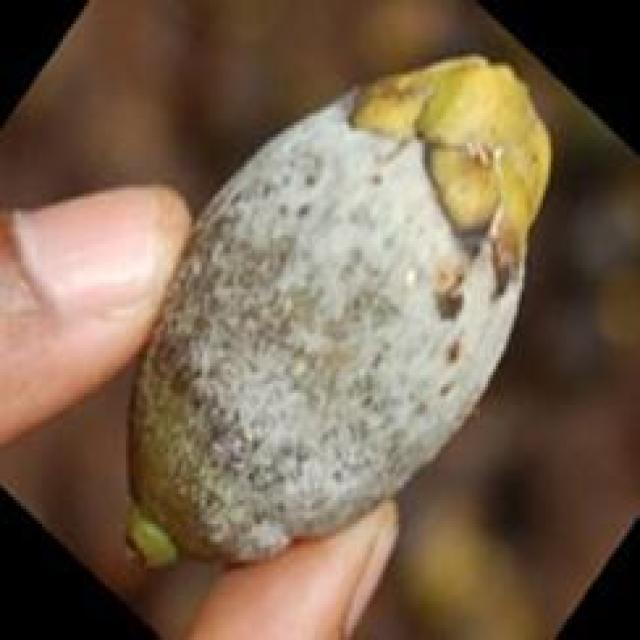damaged: (126, 57, 556, 569)
